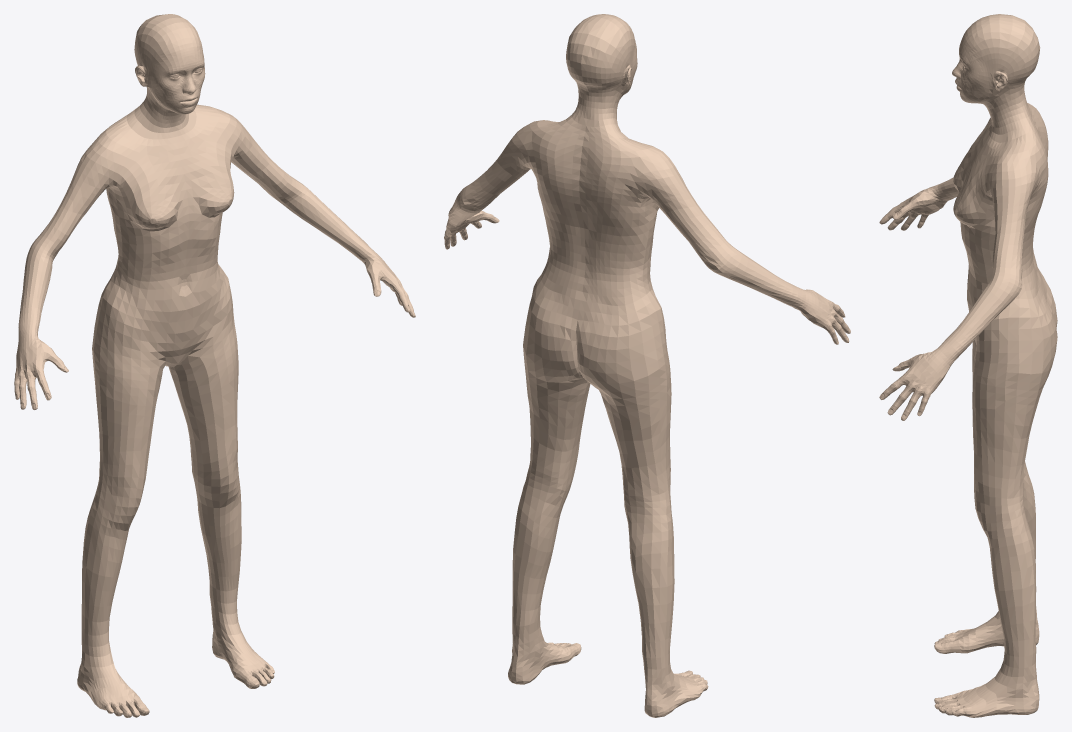
Rendered from female-adult-fit-low.glb.
3 views of the same model, side by side, from view 1: azimuth 30°, elevation 25°; view 2: azimuth 150°, elevation 25°; view 3: azimuth 270°, elevation 25° (orthographic).
Parts seen in each view (by area): view 1: world; view 2: world; view 3: world.
Boxes of the visible parts, bbox=[...] form: world: bbox=[14, 14, 415, 717]; world: bbox=[444, 14, 850, 717]; world: bbox=[879, 14, 1057, 717].
Bounding box in the file's own units: 1.12 × 1.81 × 0.4414.
